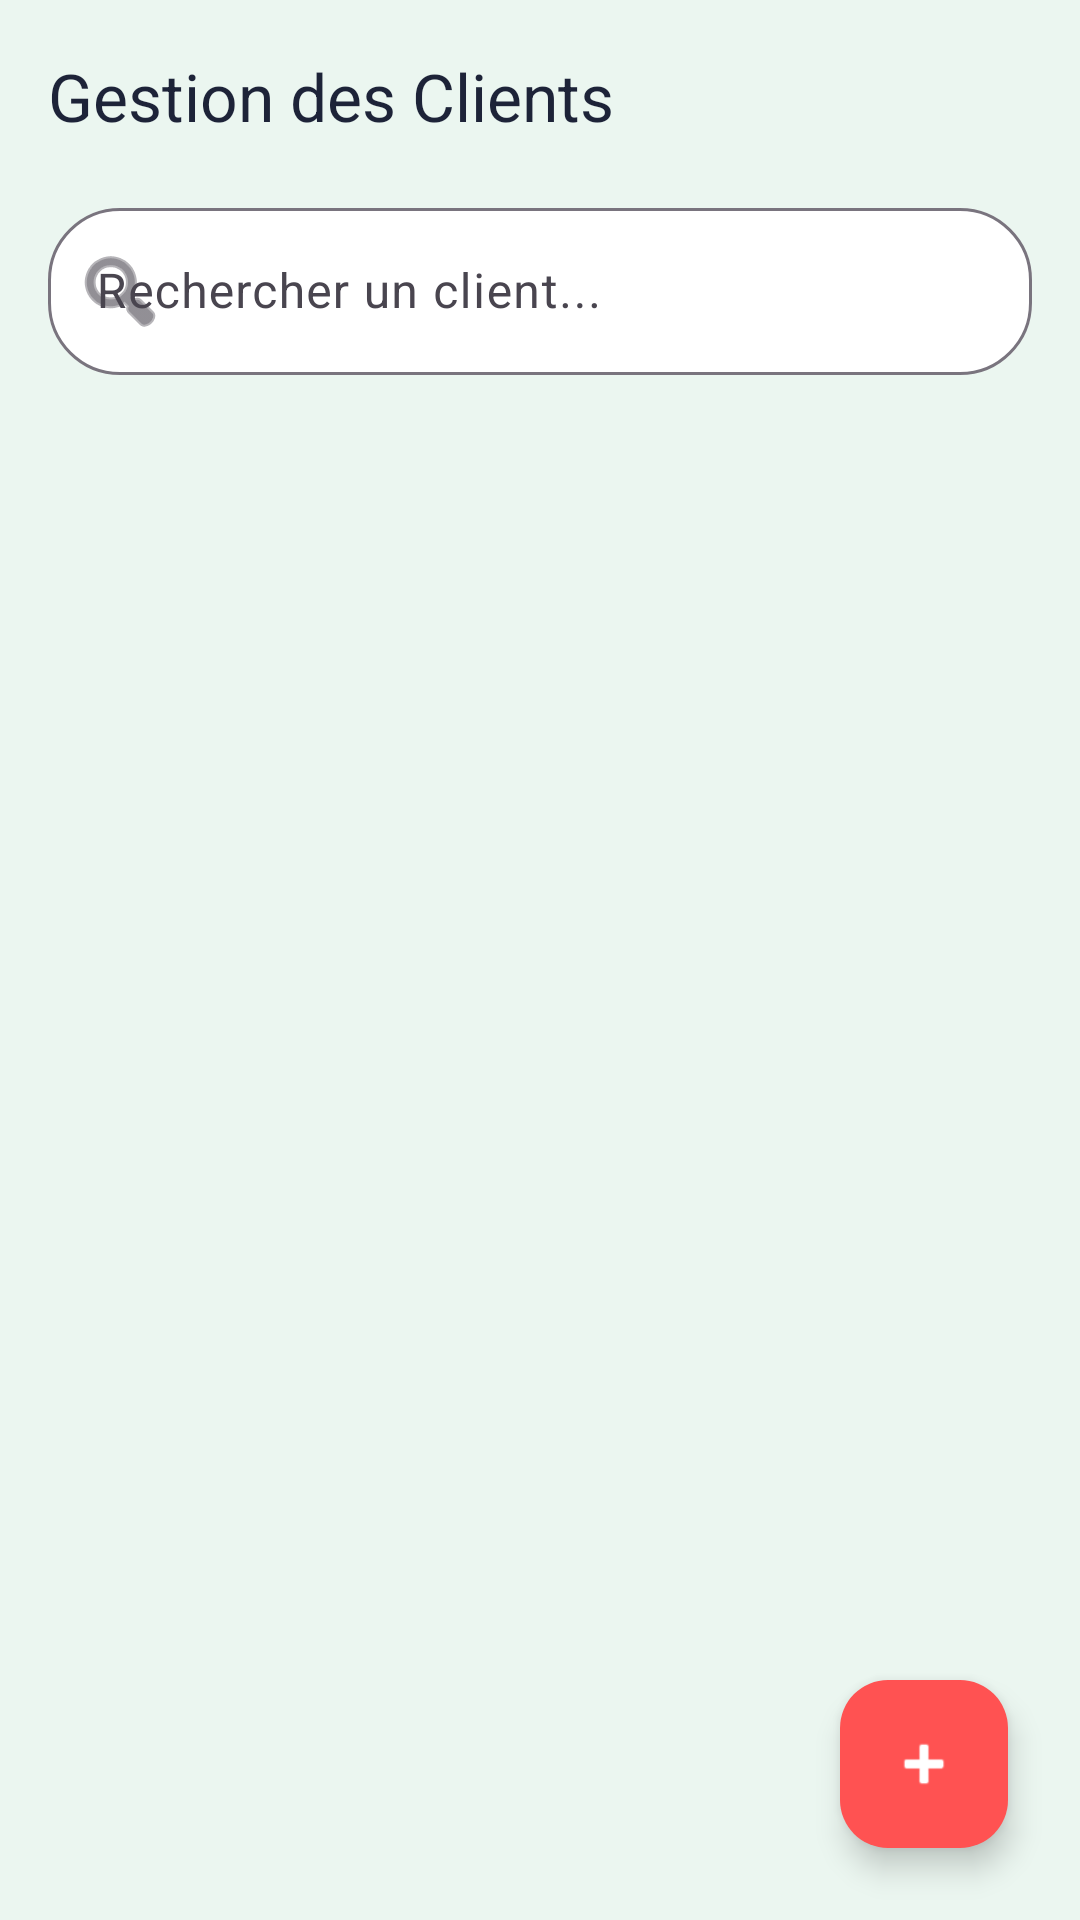

Icons on this 1080px×1920px Android screen, each with the point to tap as (x,y):
Ajouter un client: (924,1764)
